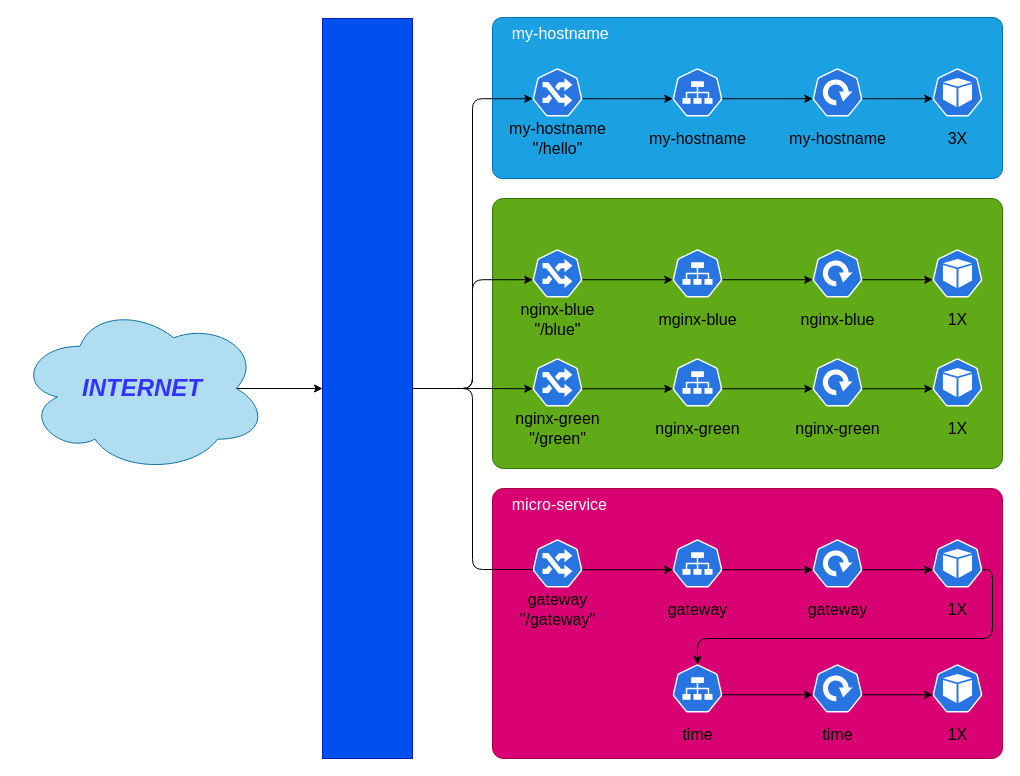
Some shapes in this 1020 by 776 pixel diagram are drawn without their labels. Here are the shapes that lost their labels. From the top down, the box of each, then its label:
(492, 198, 1002, 468): nginx-router
(322, 18, 412, 758): INGRESS CONTROLLER NGINX
